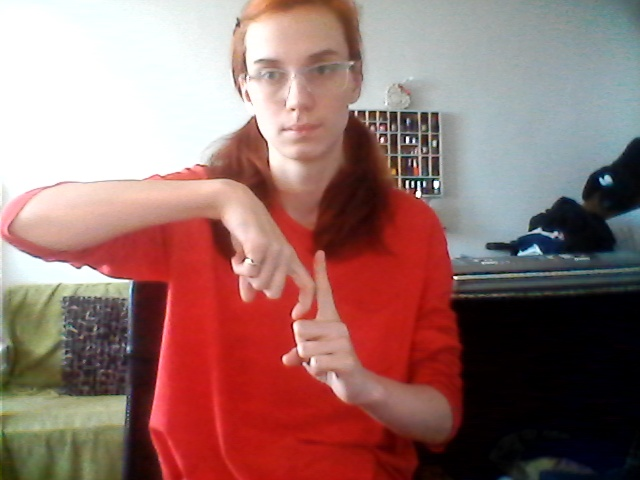k: (211, 208, 369, 408)
